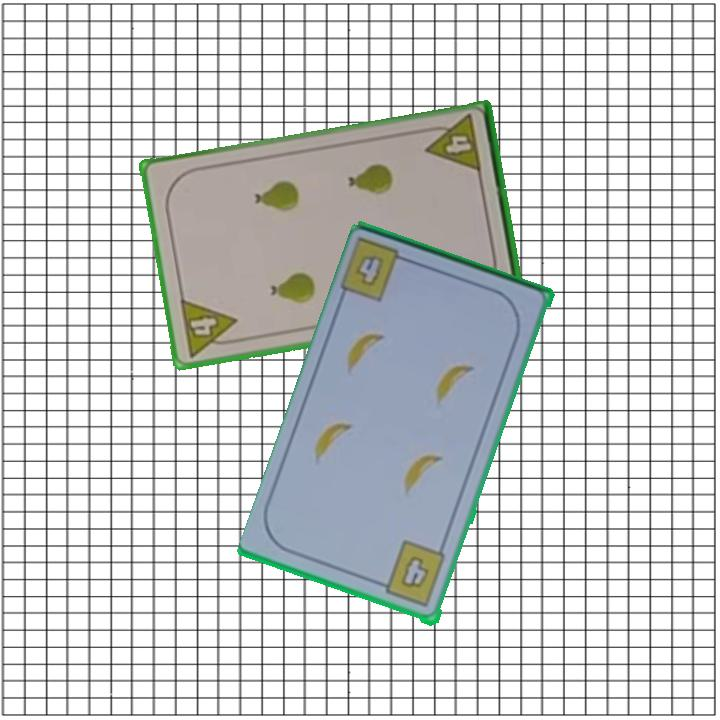4b: (339, 234, 418, 306), (374, 538, 449, 611)
4p: (176, 295, 243, 360), (420, 111, 484, 176)
